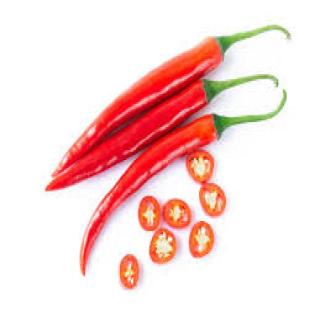Cabai Merah: (51, 25, 290, 177), (80, 114, 226, 281), (44, 82, 208, 194), (149, 218, 180, 268), (188, 222, 219, 261), (115, 253, 144, 294), (197, 184, 229, 220), (186, 151, 217, 187), (162, 198, 192, 231), (138, 197, 162, 233)
